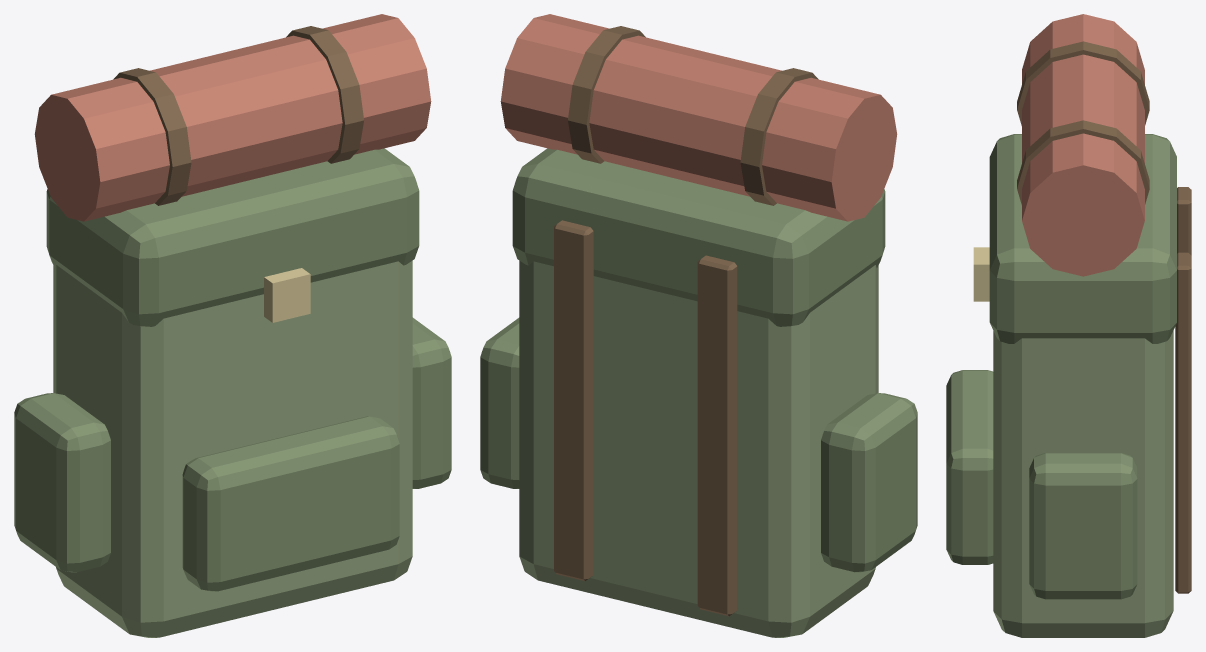
File: backpack_big.glb
The picture shows the model from 3 angles, left to right: view 1: azimuth 30°, elevation 25°; view 2: azimuth 150°, elevation 25°; view 3: azimuth 270°, elevation 25°; orthographic projection. The views are drawn at different scales.
Parts seen in each view (by area): view 1: backpack_big; view 2: backpack_big; view 3: backpack_big.
Part boxes in pixels (<box>): backpack_big: <box>14,14,451,637</box>; backpack_big: <box>480,14,917,637</box>; backpack_big: <box>946,14,1191,637</box>.
Bounding box in the file's own units: 0.52 × 0.671 × 0.2992.
